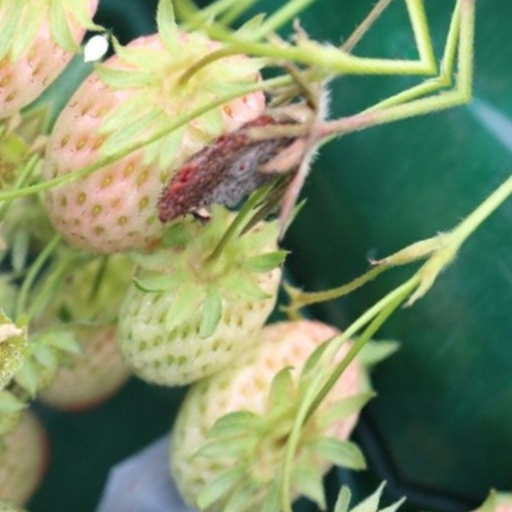Gray Mold: (246, 79, 373, 292)
